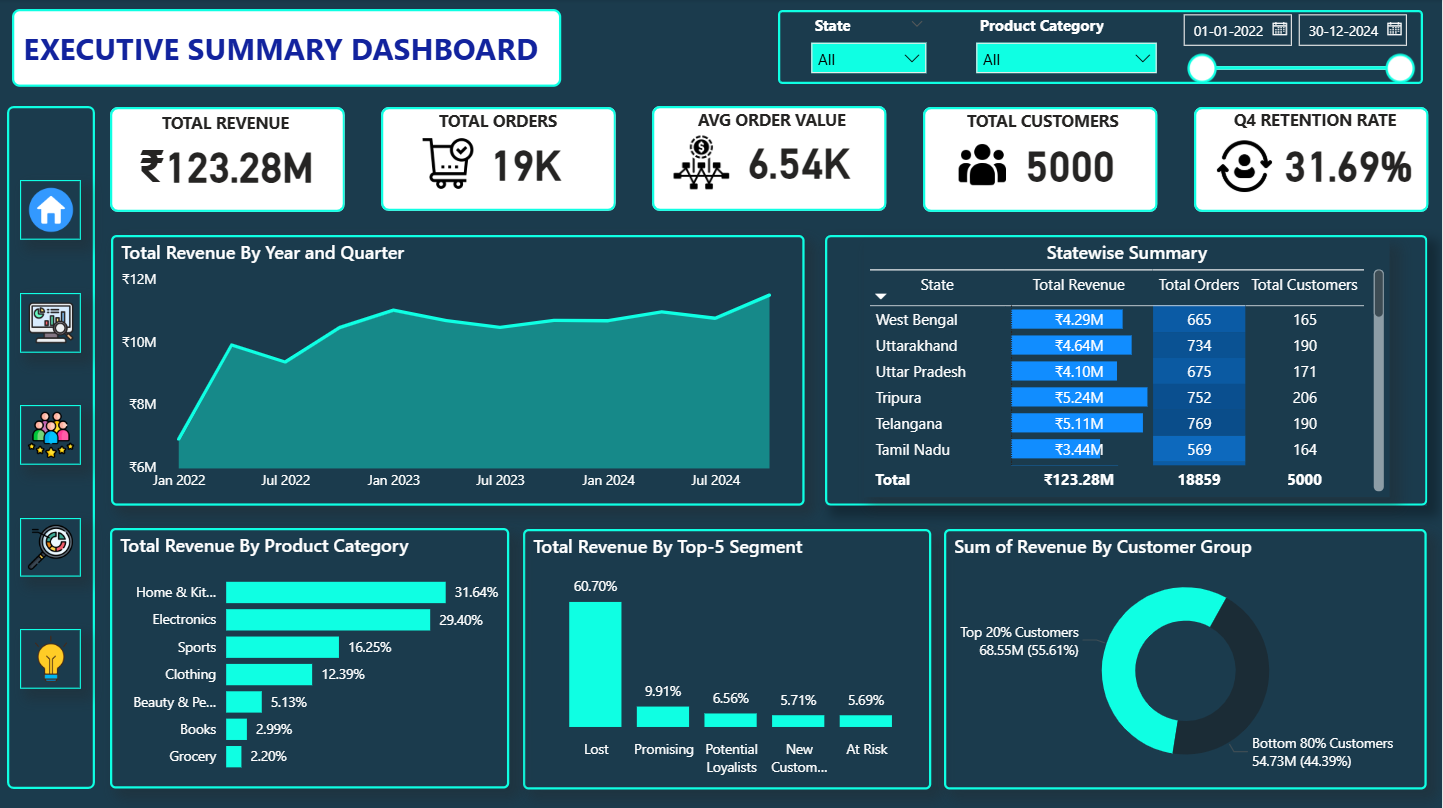

This screenshot's page, from the dashboard's own definition file:
{"tool":"powerbi","page":{"name":"Executive Summary Dashboard","canvas":[1280,720],"ordinal":0},"visuals":[{"type":"shape","box":[733.7,209.6,534.2,240],"z":0},{"type":"shape","box":[820.4,95.8,208,93.1],"z":1000},{"type":"shape","box":[339.8,95.8,208.4,92.2],"z":2000},{"type":"shape","box":[99.3,95.8,208.4,93.1],"z":3000},{"type":"shape","box":[580.3,94.9,208,93.1],"z":4000},{"type":"shape","box":[1060.5,95.8,208,93.1],"z":5000},{"type":"lineChart","title":"Total Revenue By Year and Quarter","fields":{"Category":["Fact Transactions.invoice_date.Variation.Date Hierarchy.Year","Fact Transactions.invoice_date.Variation.Date Hierarchy.Quarter","Fact Transactions.invoice_date.Variation.Date Hierarchy.Month","Fact Transactions.invoice_date.Variation.Date Hierarchy.Day"],"Y":["All Measures.Total Revenue"]},"box":[99.8,209.6,614.8,240],"z":6000},{"type":"columnChart","title":"Total Revenue By Top-5 Segment","fields":{"Category":["Dim customer segments.segment"],"Y":["All Measures.Revenue Percentage"]},"box":[465.5,470,361.8,230.5],"z":7000},{"type":"pivotTable","title":"Statewise Summary","fields":{"Rows":["dim customers.state"],"Values":["All Measures.Total Revenue","All Measures.Total Orders","All Measures.Total Customers"]},"box":[767.9,213.7,466.4,227.9],"z":8000},{"type":"card","title":"TOTAL REVENUE","fields":{"Values":["All Measures.Total Revenue"]},"box":[103.7,101.1,197.7,89.6],"z":9000},{"type":"card","title":"TOTAL REVENUE","fields":{"Values":["All Measures.Total Orders"]},"box":[368.9,99.3,197.7,89.6],"z":10000},{"type":"card","title":"TOTAL REVENUE","fields":{"Values":["All Measures.Average Order Value"]},"box":[610.9,97.5,197.7,89.6],"z":11000},{"type":"card","title":"TOTAL REVENUE","fields":{"Values":["All Measures.Total Customers"]},"box":[851.2,100.2,197.7,89.6],"z":12000},{"type":"card","title":"TOTAL REVENUE","fields":{"Values":["All Measures.Retention Rate (Q4)"]},"box":[1129.7,100.2,135.7,89.6],"z":13000},{"type":"donutChart","title":"Sum of Revenue By Customer Group","fields":{"Category":["dim customers.Customer Group"],"Y":["Sum(dim customers.Revenue)"]},"box":[838.8,470,428.3,230.5],"z":14000},{"type":"barChart","title":"Total Revenue By Product Category","fields":{"Category":["Fact Transactions.product_category"],"Y":["All Measures.Revenue Percentage"]},"box":[99.3,469.1,353.8,231.4],"z":15000},{"type":"shape","box":[8,94.9,78,605.6],"z":16000},{"type":"textbox","box":[140.1,94,126.8,35.5],"z":17000},{"type":"textbox","box":[385.7,92.2,118.8,35.5],"z":18000},{"type":"textbox","box":[615.4,91.3,148.1,35.5],"z":19000},{"type":"textbox","box":[853.9,92.2,150.7,35.5],"z":20000},{"type":"textbox","box":[1090.6,91.3,158.7,35.5],"z":21000},{"type":"image","box":[371.5,114.4,55,63],"z":22000},{"type":"image","box":[593.2,114.4,61.2,61.2],"z":23000},{"type":"image","box":[846.8,118.8,52.3,56.7],"z":24000},{"type":"image","box":[1070.2,115.3,69.2,65.6],"z":25000},{"type":"shape","box":[691.6,9.8,571.9,65.6],"z":26000},{"type":"slicer","fields":{"Values":["dim customers.state"]},"box":[711.6,10.1,122,65.5],"z":27000},{"type":"slicer","fields":{"Values":["Fact Transactions.product_category"]},"box":[857.7,10.1,180.4,65.5],"z":28000},{"type":"slicer","fields":{"Values":["Fact Transactions.invoice_date"]},"box":[1038.3,3.5,225.2,74.5],"z":29000},{"type":"textbox","box":[12.4,8.9,486.8,69.2],"z":30000},{"type":"image","box":[19.5,160.5,54.1,53.2],"z":31000},{"type":"image","box":[19.5,260.2,54.1,53.2],"z":32000},{"type":"image","box":[19.5,360,54.1,53.2],"z":33000},{"type":"image","box":[19.5,459.8,54.1,52.3],"z":34000},{"type":"image","box":[19.5,558.6,54.1,53.2],"z":35000}]}

Visuals, with their boxes in screenshot pixels (x1, y1, x2, y2), scaled from the page's 1280x720 canvas onto the 1443x808 screenshot:
shape: bbox(827, 235, 1429, 505)
shape: bbox(925, 108, 1159, 212)
shape: bbox(383, 108, 618, 211)
shape: bbox(112, 108, 347, 212)
shape: bbox(654, 106, 889, 211)
shape: bbox(1196, 108, 1430, 212)
"Total Revenue By Year and Quarter" lineChart: bbox(113, 235, 806, 505)
"Total Revenue By Top-5 Segment" columnChart: bbox(525, 527, 933, 786)
"Statewise Summary" pivotTable: bbox(866, 240, 1391, 496)
"TOTAL REVENUE" card: bbox(117, 113, 340, 214)
"TOTAL REVENUE" card: bbox(416, 111, 639, 212)
"TOTAL REVENUE" card: bbox(689, 109, 912, 210)
"TOTAL REVENUE" card: bbox(960, 112, 1182, 213)
"TOTAL REVENUE" card: bbox(1274, 112, 1427, 213)
"Sum of Revenue By Customer Group" donutChart: bbox(946, 527, 1428, 786)
"Total Revenue By Product Category" barChart: bbox(112, 526, 511, 786)
shape: bbox(9, 106, 97, 786)
textbox: bbox(158, 105, 301, 145)
textbox: bbox(435, 103, 569, 143)
textbox: bbox(694, 102, 861, 142)
textbox: bbox(963, 103, 1133, 143)
textbox: bbox(1229, 102, 1408, 142)
image: bbox(419, 128, 481, 199)
image: bbox(669, 128, 738, 197)
image: bbox(955, 133, 1014, 197)
image: bbox(1206, 129, 1284, 203)
shape: bbox(780, 11, 1424, 85)
slicer - dim customers.state: bbox(802, 11, 940, 85)
slicer - Fact Transactions.product_category: bbox(967, 11, 1170, 85)
slicer - Fact Transactions.invoice_date: bbox(1171, 4, 1424, 88)
textbox: bbox(14, 10, 563, 88)
image: bbox(22, 180, 83, 240)
image: bbox(22, 292, 83, 352)
image: bbox(22, 404, 83, 464)
image: bbox(22, 516, 83, 575)
image: bbox(22, 627, 83, 687)
